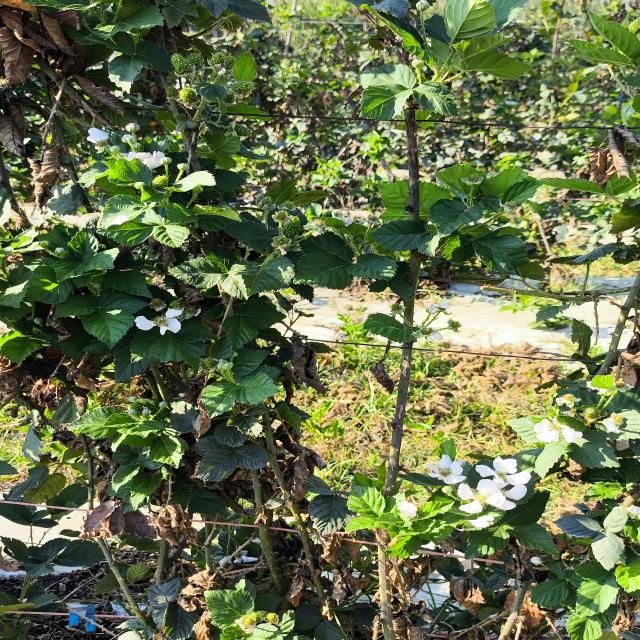boton: (125, 123, 140, 134), (122, 134, 136, 143), (160, 156, 171, 166), (109, 145, 120, 154), (134, 182, 145, 190), (177, 163, 188, 170)
flor: (457, 479, 516, 514), (476, 456, 530, 487), (534, 418, 582, 443), (427, 454, 466, 484), (135, 310, 181, 335), (124, 151, 165, 169), (87, 127, 108, 144), (509, 485, 526, 499)
